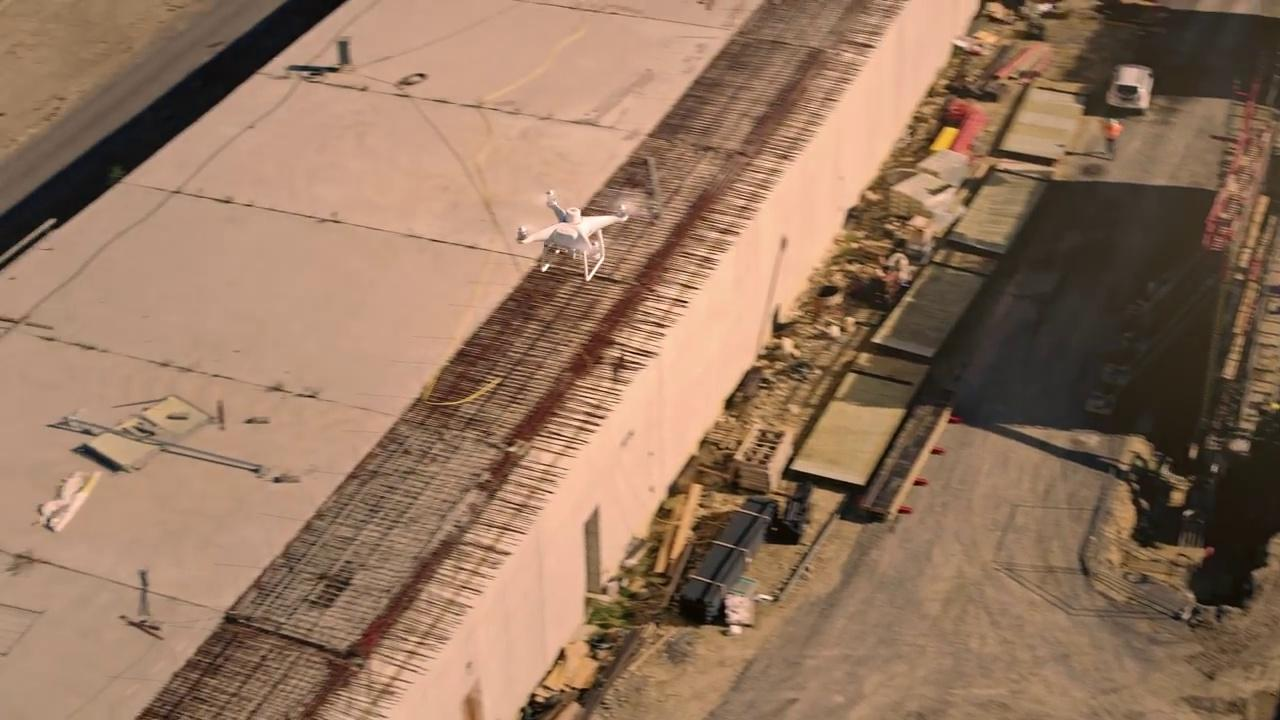drone: (507, 185, 638, 282)
